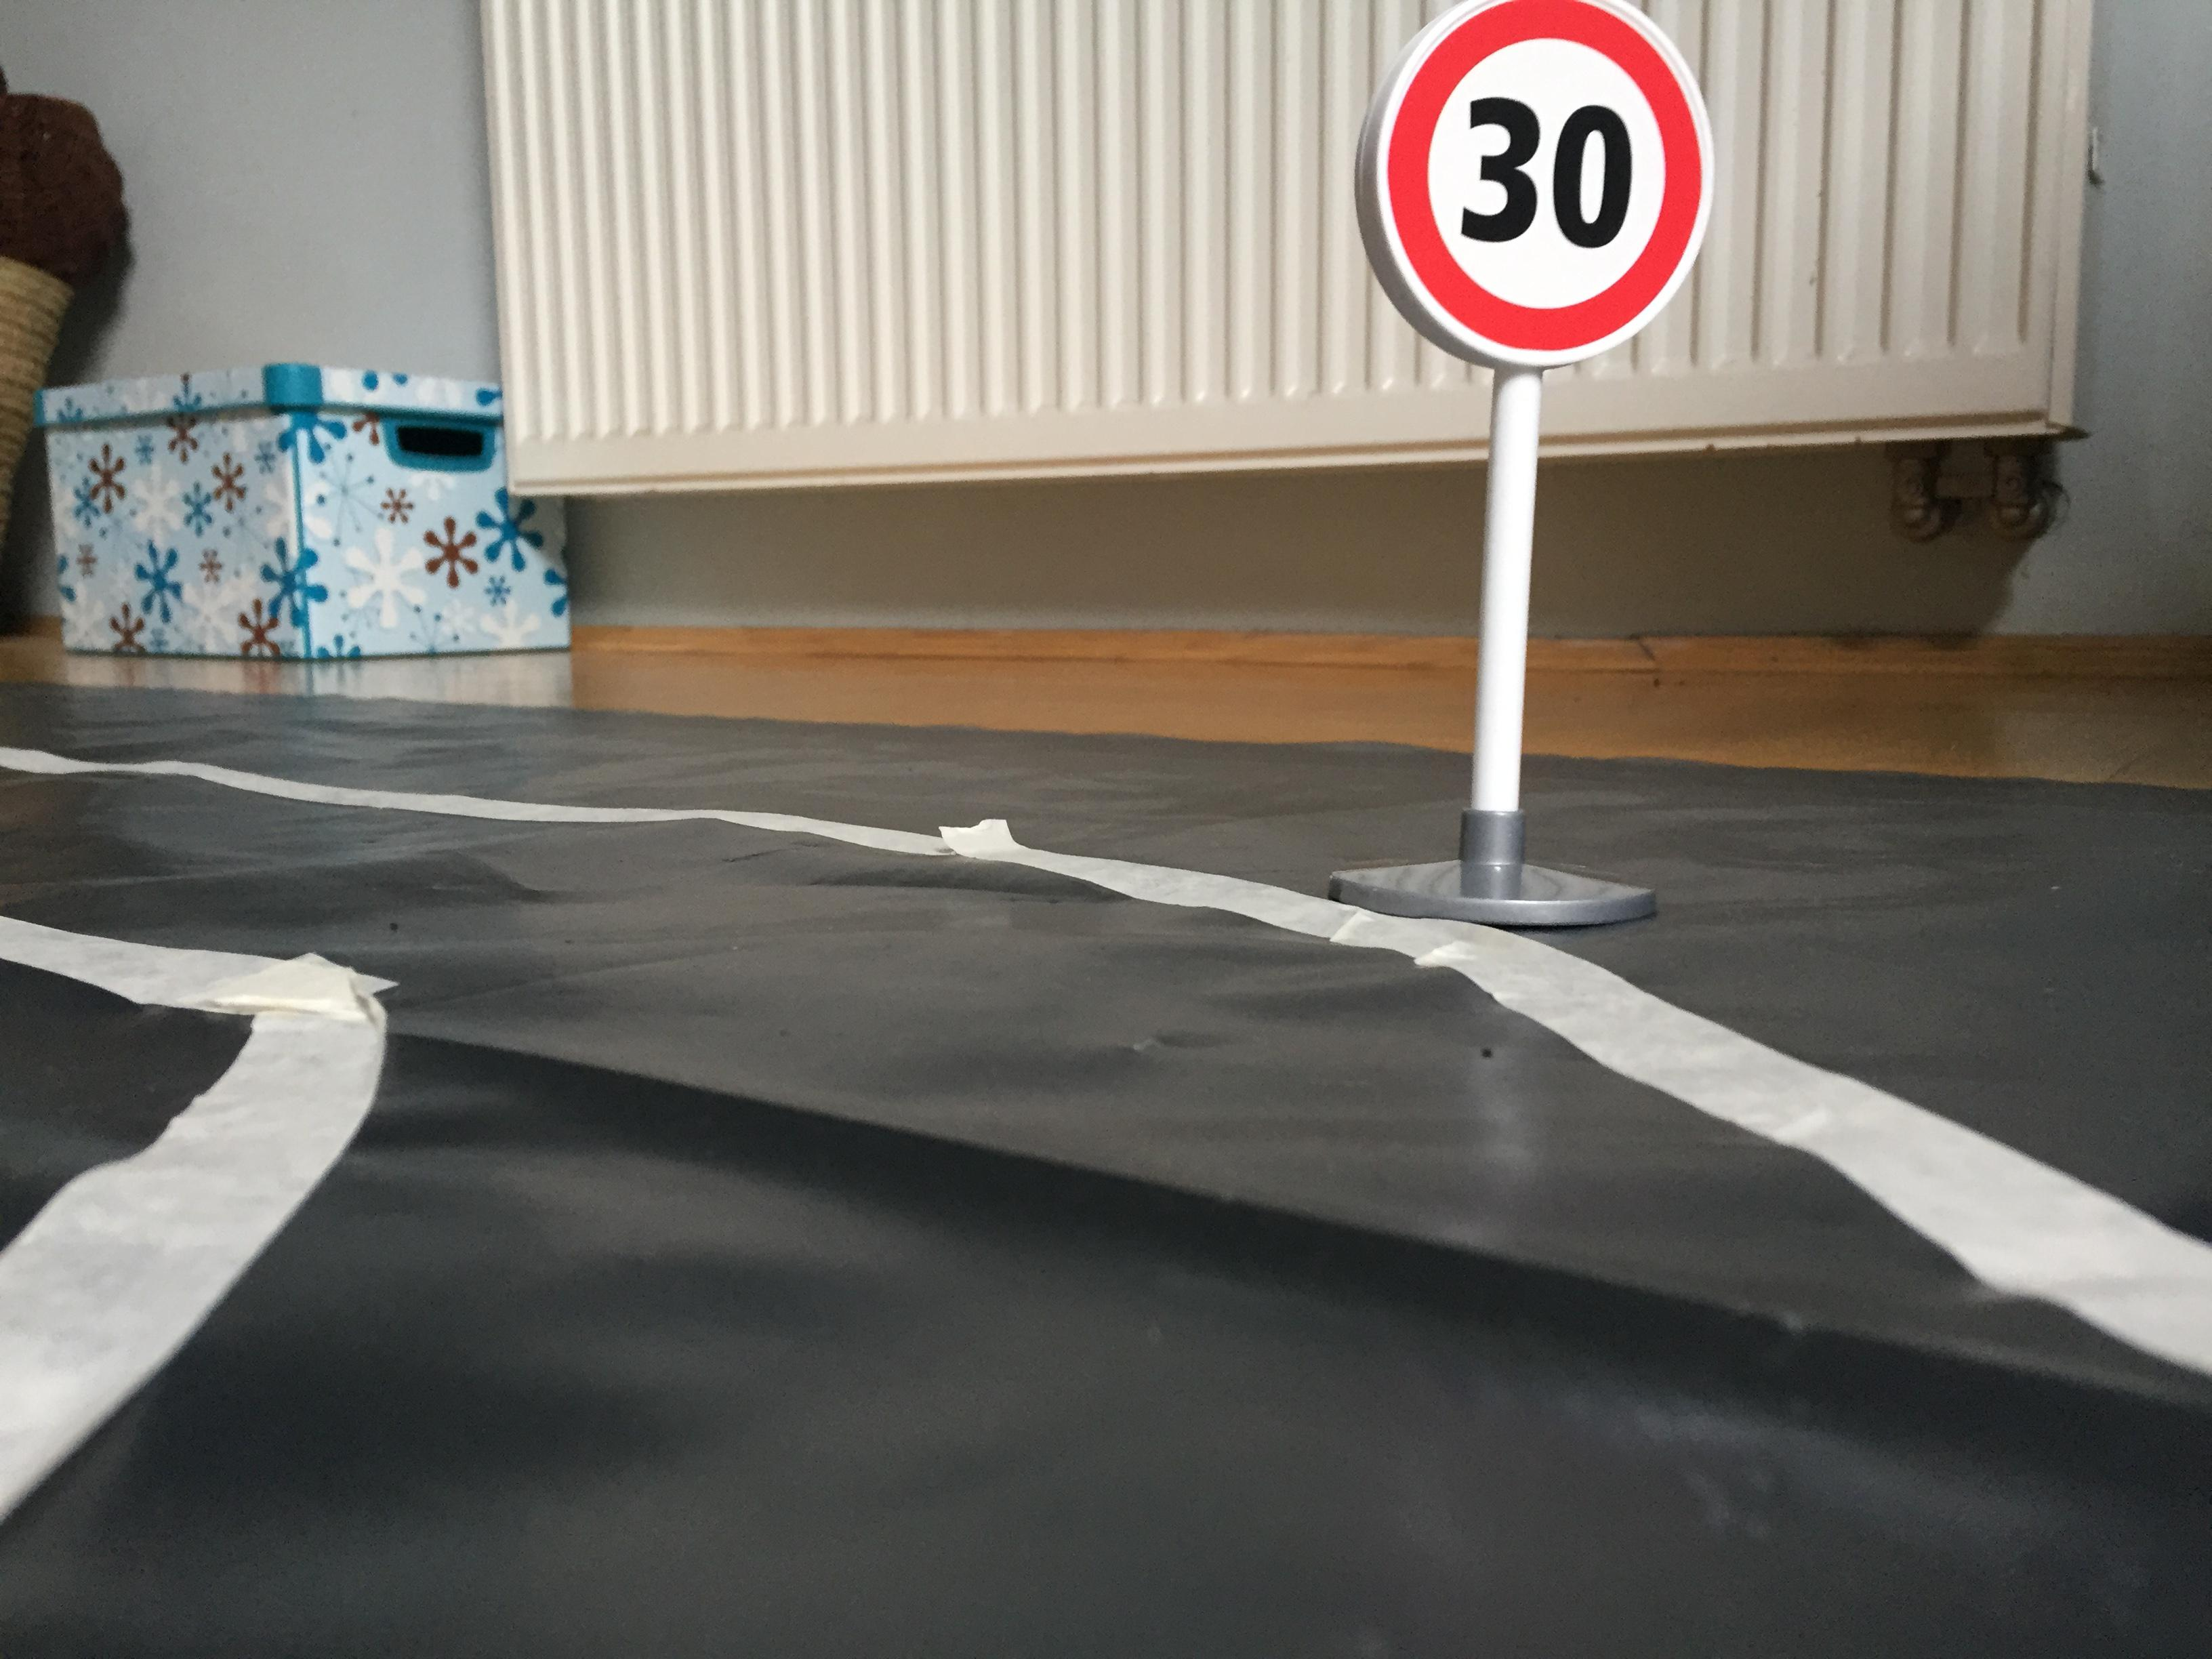speed: (1341, 0, 1721, 375)
